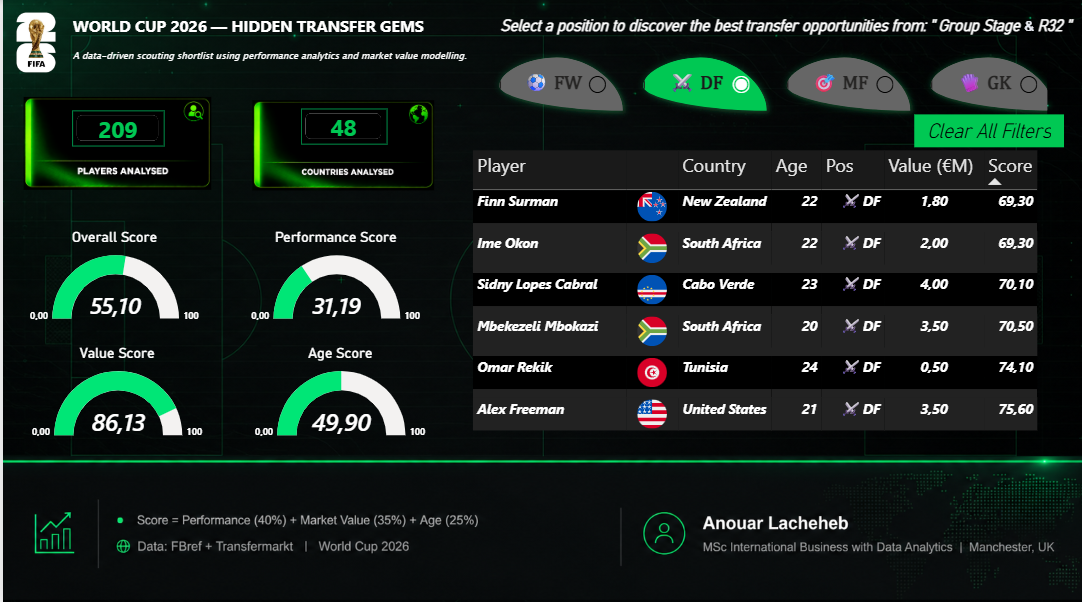

The dashboard page shown, as its layout file describes it:
{"tool":"powerbi","page":{"name":"Page 1","canvas":[1280,720],"ordinal":0},"visuals":[{"type":"image","box":[24.4,39.9,221.7,259.4],"z":1000},{"type":"image","box":[294.8,115.3,215,113.1],"z":2000},{"type":"tableEx","fields":{"Values":["Append1.Player","World_Cup_2026_48_Teams_Circular_Flags.CircularFlagSVG","Append1.Country","Append1.Age_tm","Append1.Pos","Append1.Value_M","Append1.Score"]},"box":[548.8,173.9,704.8,356.9],"z":3000},{"type":"textbox","box":[77.6,13.3,432.3,37.7],"z":4000},{"type":"advancedSlicerVisual","fields":{"Values":["Append1.Pos"]},"box":[543.1,51,711.6,97.5],"z":5000},{"type":"image","box":[0,13.3,77.6,73.2],"z":6000},{"type":"textbox","box":[574.1,13.3,702.7,53.2],"z":7000},{"type":"gauge","title":"Overall Score ","fields":{"Y":["Avg(Append1.Score)"],"MaxValue":["Append1.Measure"]},"box":[22.2,270.4,219.5,124.1],"z":8000},{"type":"gauge","title":"Performance Score ","fields":{"MaxValue":["Append1.Measure"],"Y":["Append1.Perf_Score"]},"box":[283.7,270.4,219.5,124.1],"z":9000},{"type":"gauge","title":"Value Score ","fields":{"MaxValue":["Append1.Measure"],"Y":["Avg(Append1.n_val)"]},"box":[23.3,407.4,221.2,124.2],"z":10000},{"type":"gauge","title":"Age Score ","fields":{"MaxValue":["Append1.Measure"],"Y":["Avg(Append1.n_age)"]},"box":[287.2,407.4,221.2,124.2],"z":11000},{"type":"cardVisual","fields":{"Data":["Count(Append1.Country)"]},"box":[352.5,128.6,102,42.1],"z":12000},{"type":"actionButton","box":[1076.7,135,176.9,39],"z":13000},{"type":"cardVisual","fields":{"Data":["Count(Append1.Player)"]},"box":[82,130.8,108.6,42.1],"z":14000},{"type":"textbox","box":[77.6,51,496.6,35.5],"z":15000},{"type":"image","box":[2.2,447.8,1276.9,254.9],"z":15001}]}

Visuals, with their boxes in screenshot pixels (x1, y1, x2, y2), scaled from the page's 1280x720 canvas onto the 1082x602 screenshot:
image: left=21, top=33, right=208, bottom=250
image: left=249, top=96, right=431, bottom=191
tableEx - Append1.Player x World_Cup_2026_48_Teams_Circular_Flags.CircularFlagSVG: left=464, top=145, right=1060, bottom=444
textbox: left=66, top=11, right=431, bottom=43
advancedSlicerVisual - Append1.Pos: left=459, top=43, right=1061, bottom=124
image: left=0, top=11, right=66, bottom=72
textbox: left=485, top=11, right=1079, bottom=56
"Overall Score " gauge: left=19, top=226, right=204, bottom=330
"Performance Score " gauge: left=240, top=226, right=425, bottom=330
"Value Score " gauge: left=20, top=341, right=207, bottom=444
"Age Score " gauge: left=243, top=341, right=430, bottom=444
cardVisual - Count(Append1.Country): left=298, top=108, right=384, bottom=143
actionButton: left=910, top=113, right=1060, bottom=145
cardVisual - Count(Append1.Player): left=69, top=109, right=161, bottom=145
textbox: left=66, top=43, right=485, bottom=72
image: left=2, top=374, right=1081, bottom=588
